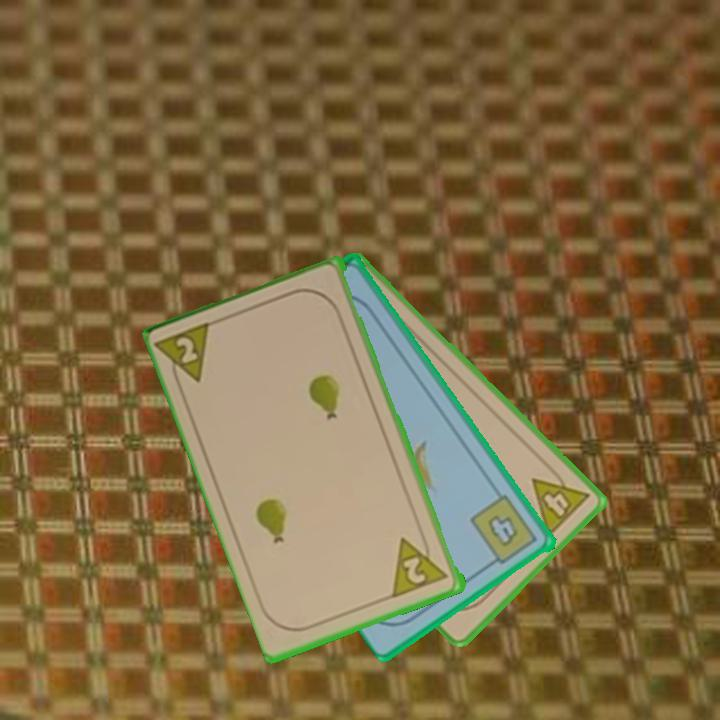2p: (154, 318, 217, 394), (389, 529, 453, 601)
4b: (467, 491, 542, 570)
4p: (528, 460, 593, 541)
